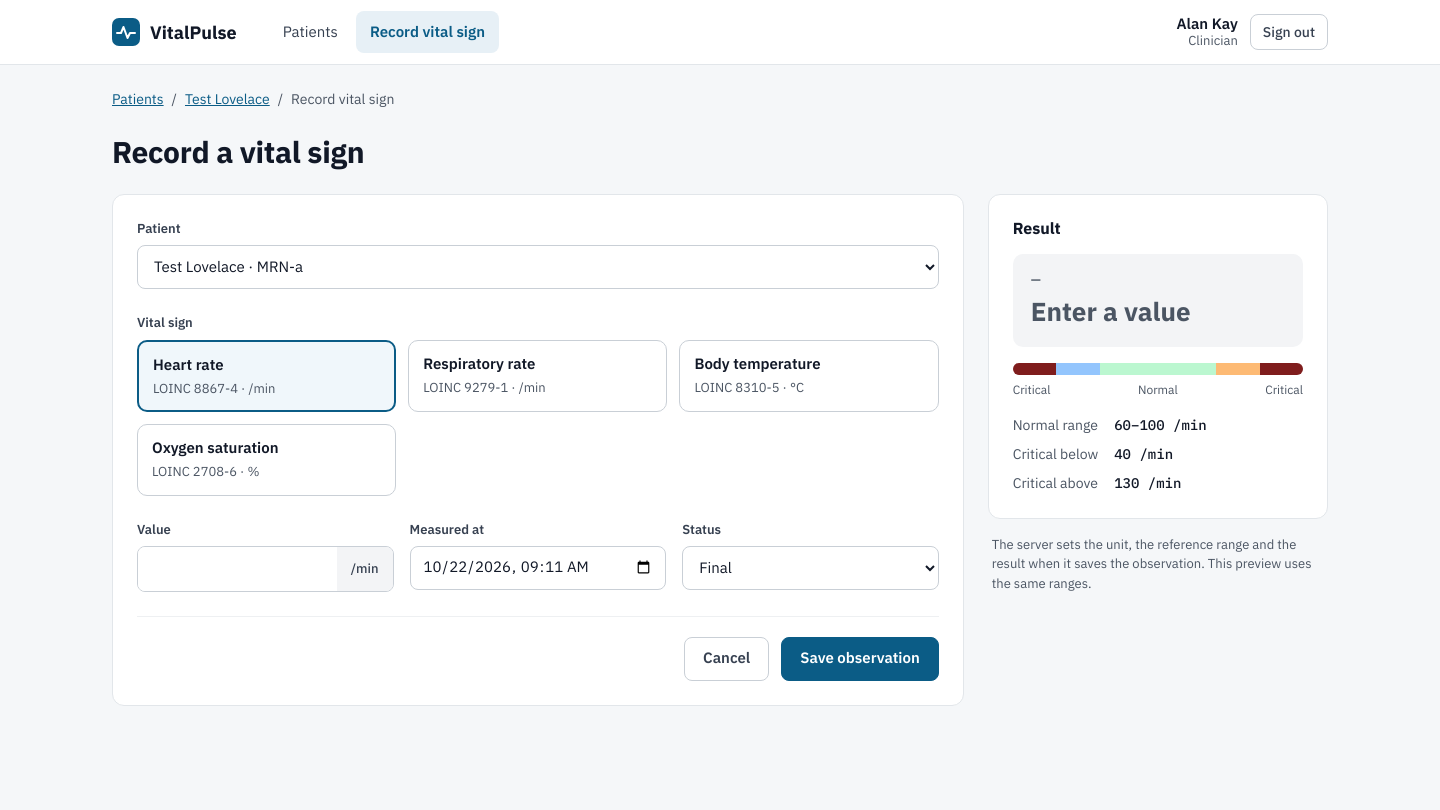
it: Record observation page › previews the result while typing, with the same ranges as the server
Type "118" into the number field labelled "Value /min" at point(237, 568), box 138,546 -> 337,590
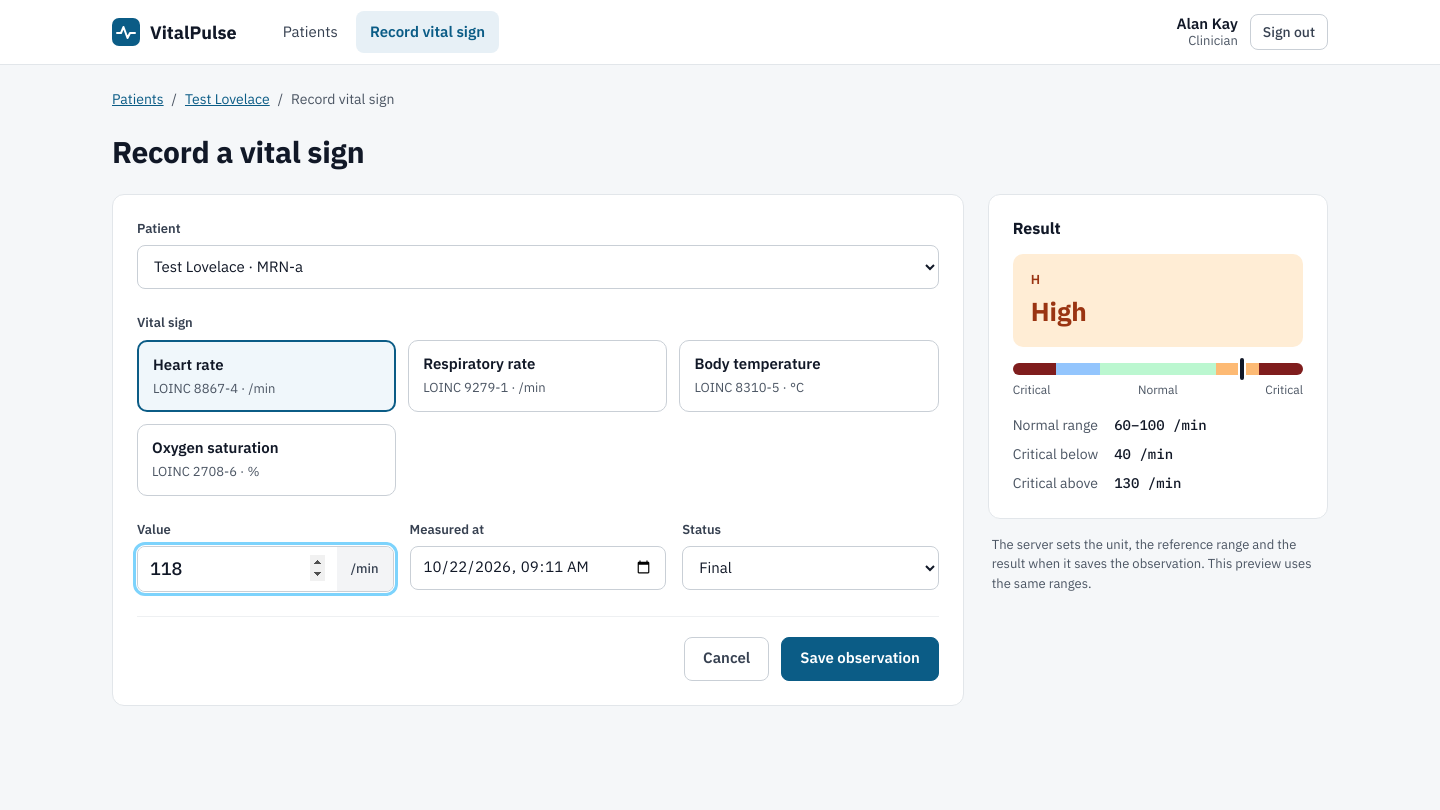
Result: the message shows "High" at 1031,294 -> 1087,328
Replace the text in the number field labelled "Value /min" with "100" at point(237, 568), box 138,546 -> 337,590
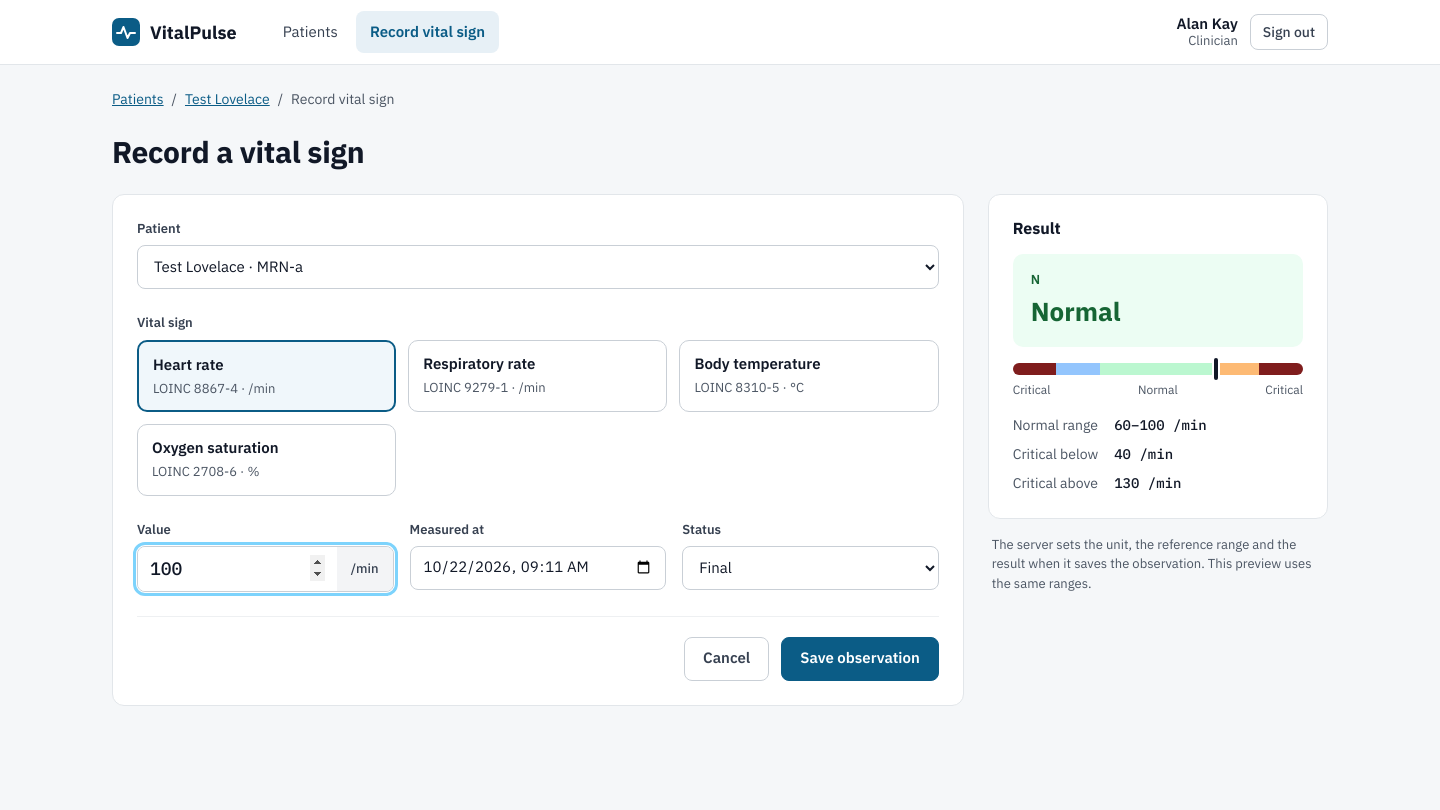
Result: the message shows "Normal" at 1031,294 -> 1121,328
Click the button "Oxygen saturation LOINC 2708-6 · %" at point(267, 460), box 137,424 -> 396,496
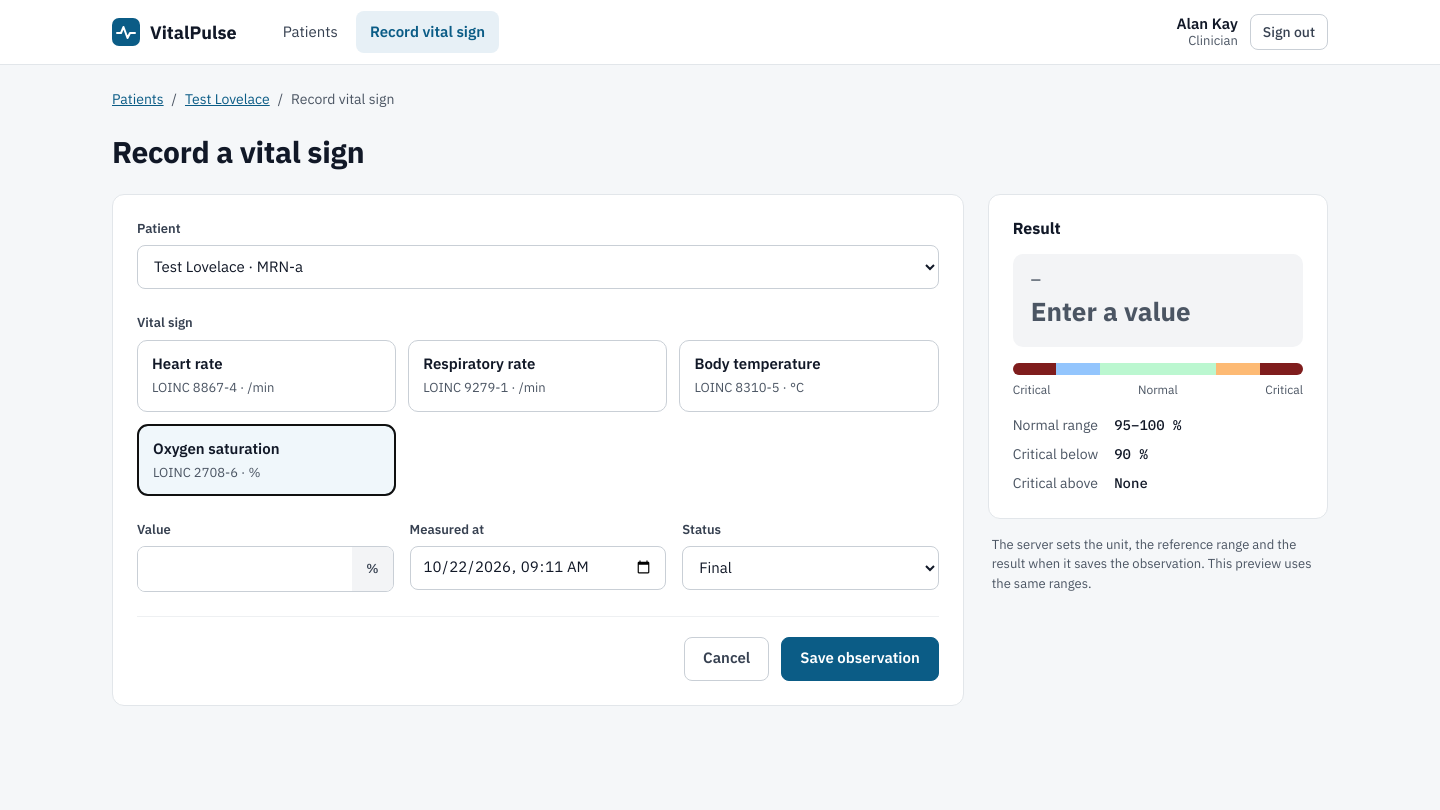
Type "86" into the number field labelled "Value %" at point(245, 568), box 138,546 -> 352,590
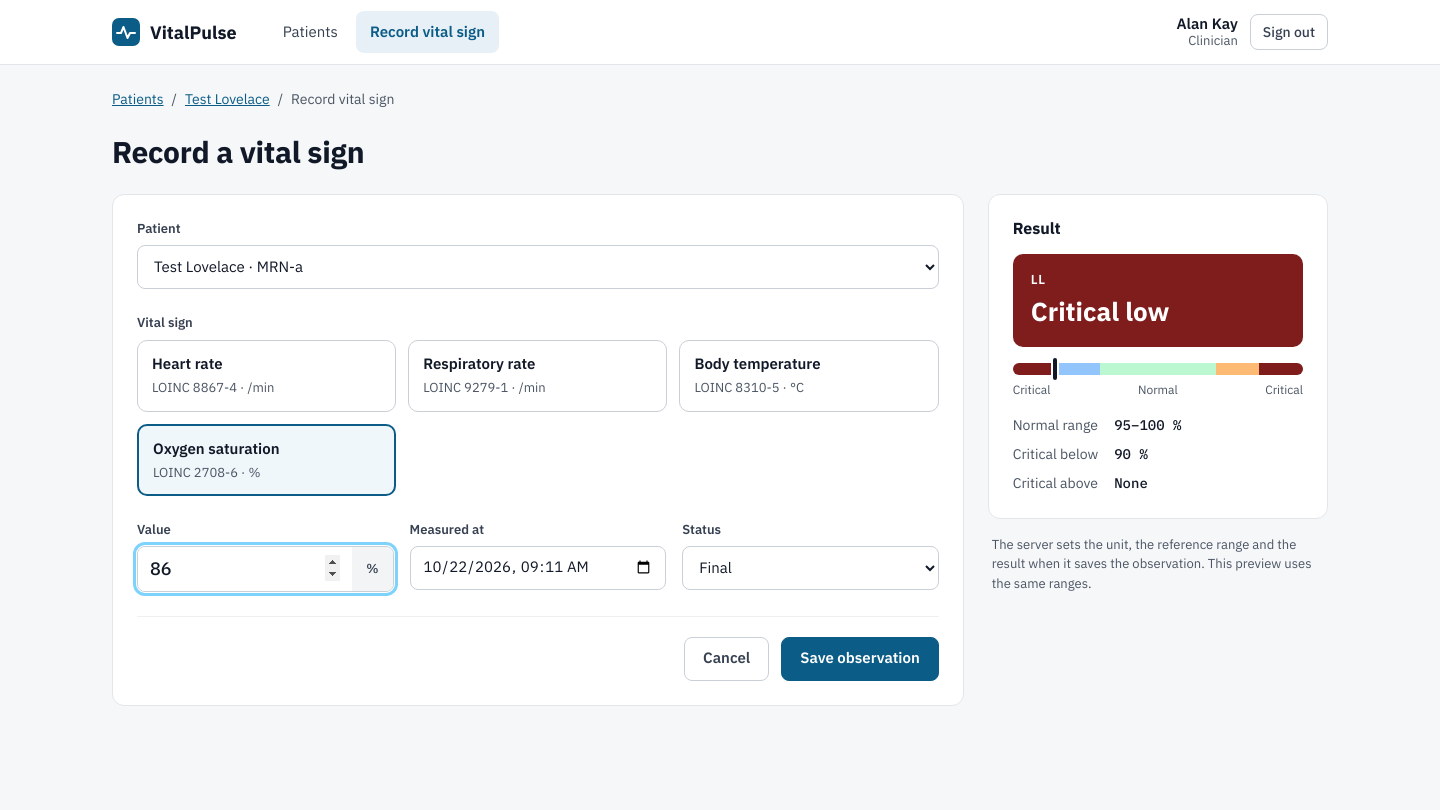
Result: the message shows "Critical low" at 1031,294 -> 1169,328
Replace the text in the number field labelled "Value %" with "150" at point(245, 568), box 138,546 -> 352,590
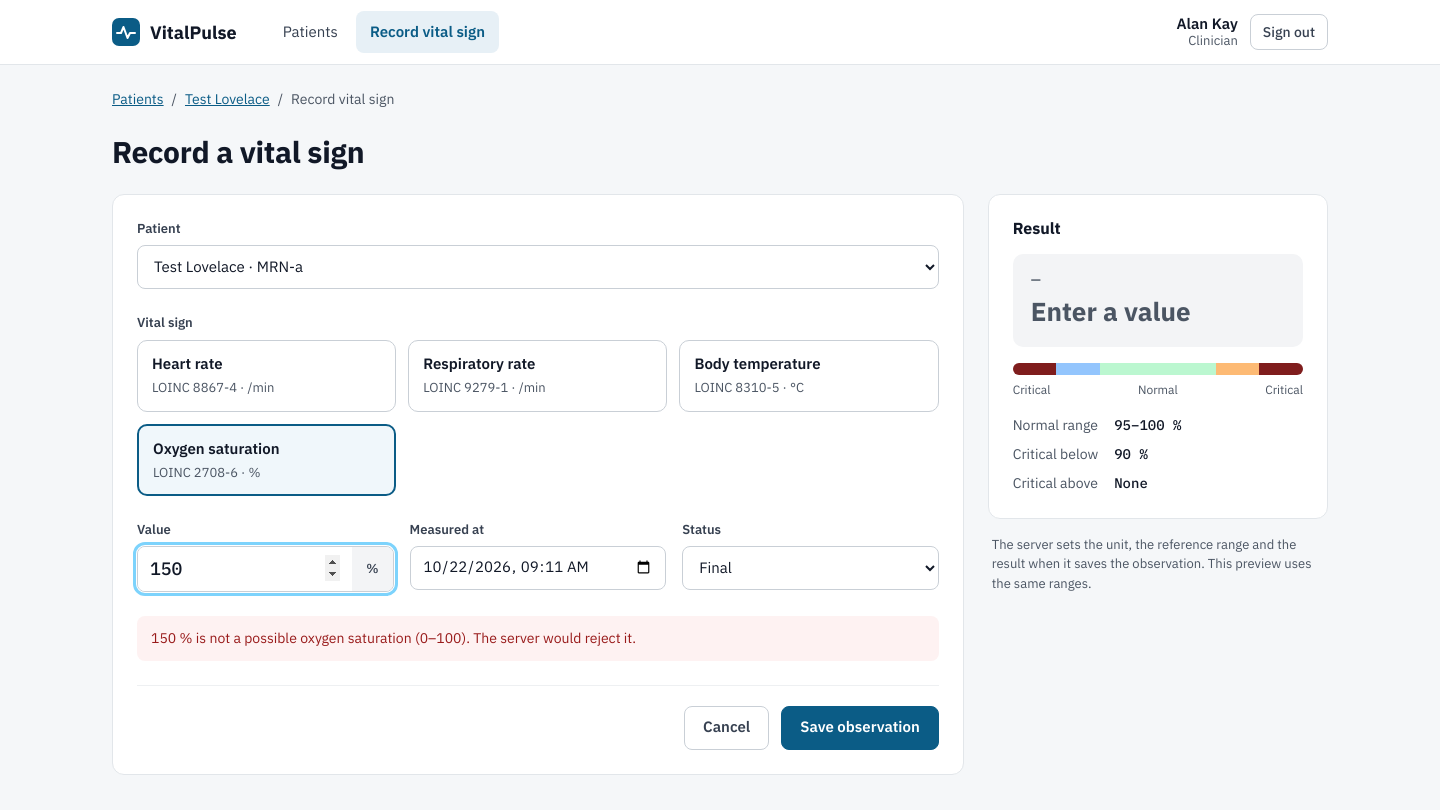
Result: the text "is not a possible oxygen saturation" is shown at 137,616 -> 939,660
